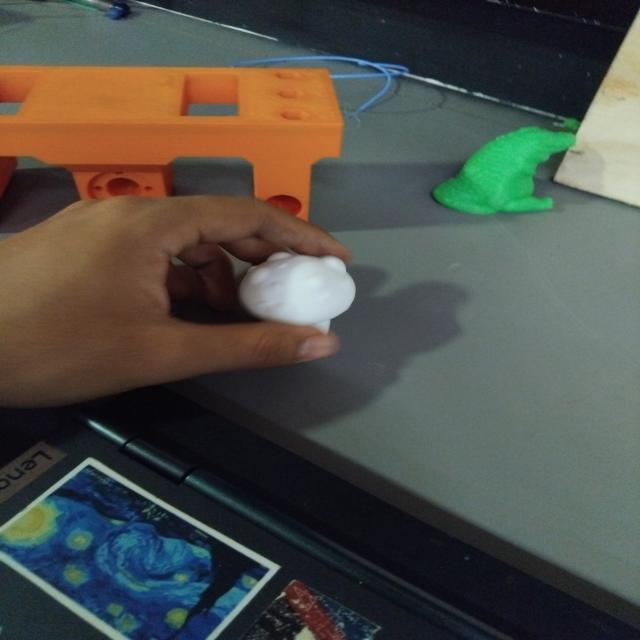Hongo: (226, 248, 367, 337)
